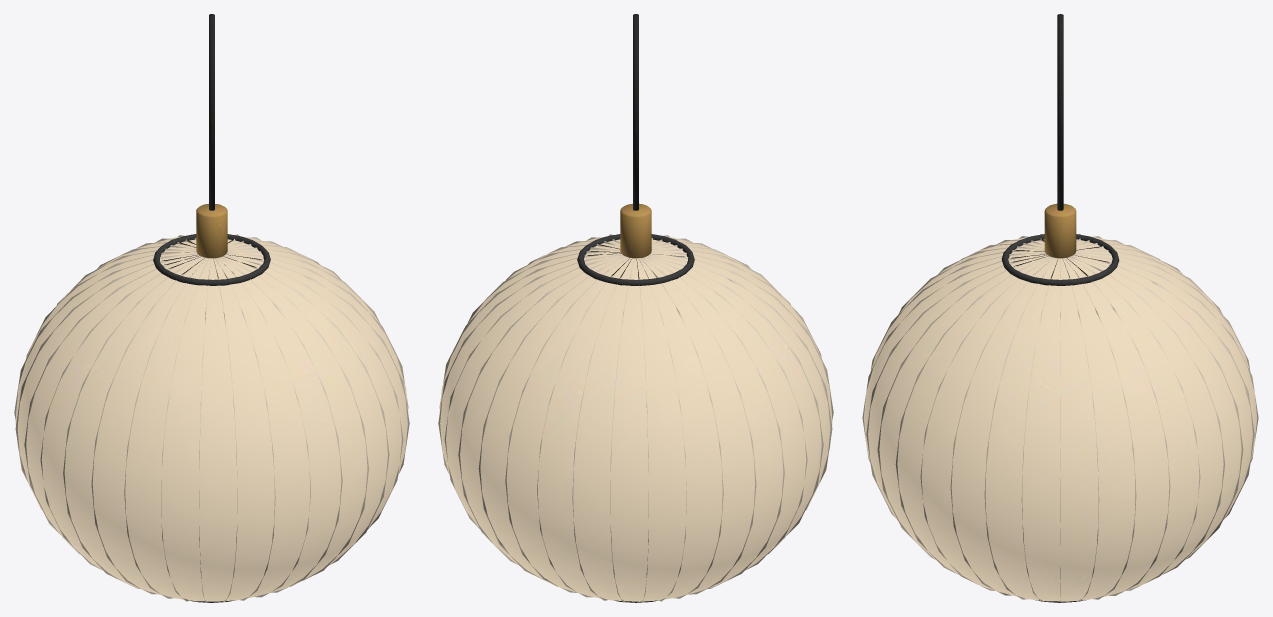
File: scene-paper-lantern.glb
3 views of the same model, side by side, from view 1: azimuth 30°, elevation 25°; view 2: azimuth 150°, elevation 25°; view 3: azimuth 270°, elevation 25° (orthographic).
Parts seen in each view (by area): view 1: scene-paper-lantern; view 2: scene-paper-lantern; view 3: scene-paper-lantern.
Boxes of the visible parts, left/top/right/bottom form: scene-paper-lantern: left=14, top=14, right=409, bottom=602; scene-paper-lantern: left=438, top=14, right=833, bottom=602; scene-paper-lantern: left=862, top=14, right=1258, bottom=602.
Bounding box in the file's own units: 0.5 × 0.7909 × 0.5.
2 materials, 2 textured.
